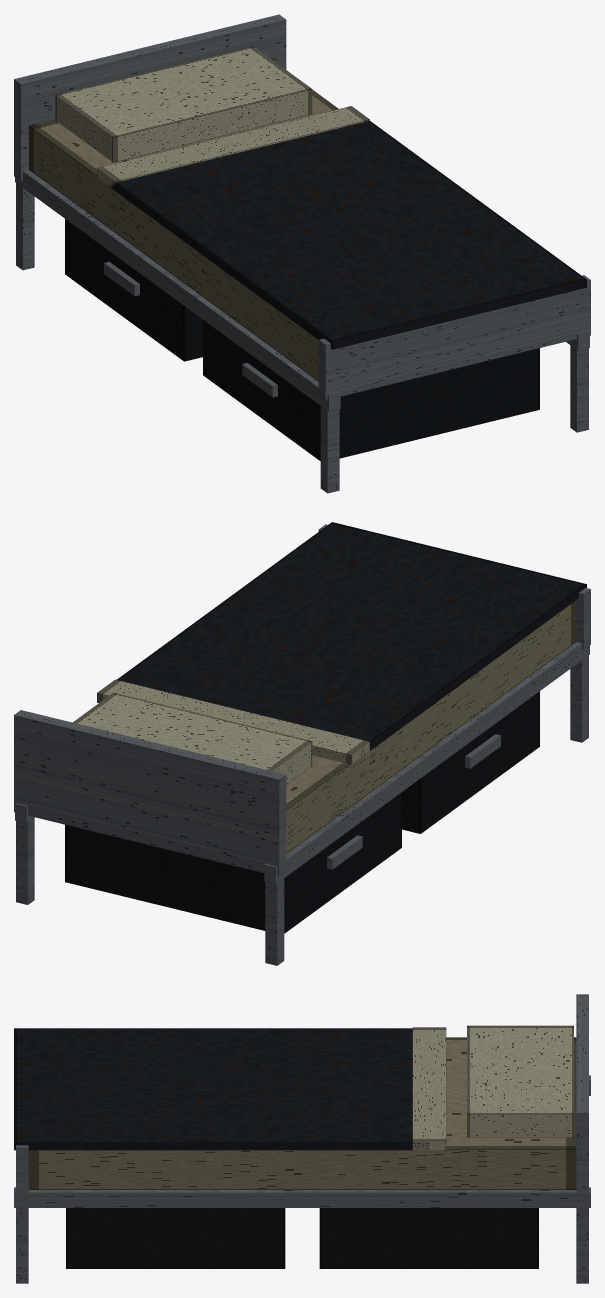
The model's file is crew_bed_command_bridge.glb.
3 renders of one model, top to bottom at view 1: azimuth 30°, elevation 25°; view 2: azimuth 150°, elevation 25°; view 3: azimuth 270°, elevation 25°, orthographic. The views are drawn at different scales.
Visible parts, largest first — view 1: crew_bed_command_bridge; view 2: crew_bed_command_bridge; view 3: crew_bed_command_bridge.
Boxes of the visible parts, <box> form: crew_bed_command_bridge: <box>14,14,590,493</box>; crew_bed_command_bridge: <box>14,522,590,965</box>; crew_bed_command_bridge: <box>14,994,590,1283</box>.
Size of the model in its own units: 1 by 0.6725 by 2.05.
Materials: 5 (5 with a texture image).
